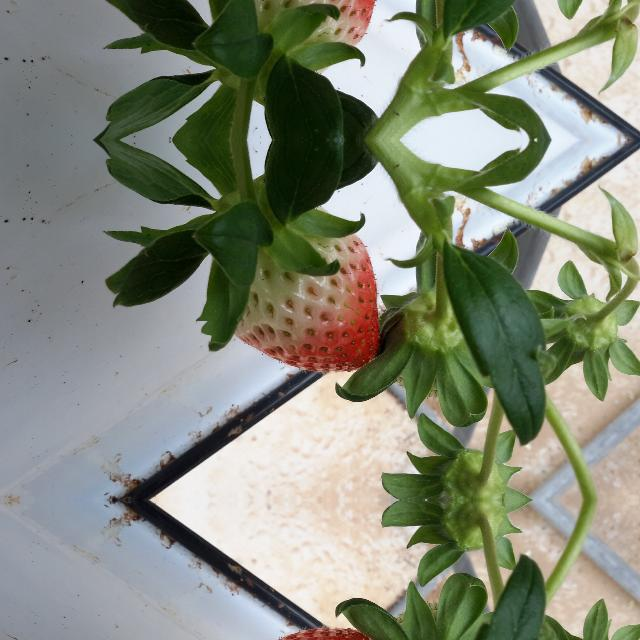Health_75: (234, 232, 380, 372), (234, 0, 379, 47)
